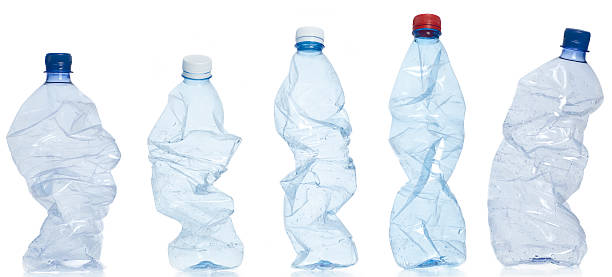HDPE Cap: (562, 28, 590, 49), (181, 55, 212, 72), (44, 53, 71, 70), (295, 26, 322, 37), (413, 15, 442, 25)
HDPE Ring: (295, 36, 323, 44), (182, 72, 212, 79), (412, 24, 444, 30)
PET Bottle: (486, 25, 604, 270), (6, 52, 122, 277), (146, 53, 246, 270), (272, 26, 360, 271), (388, 13, 469, 270)
